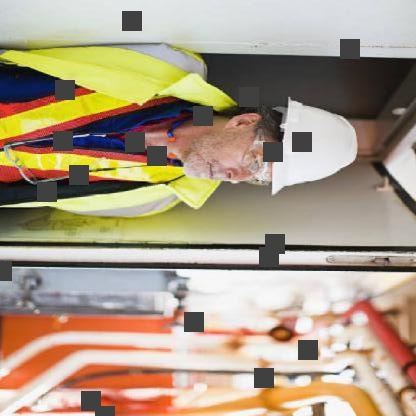vest: (4, 44, 182, 226)
white: (267, 91, 363, 200)
